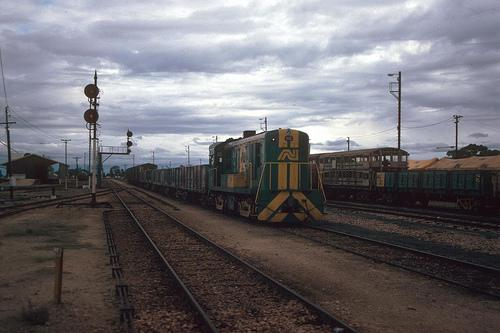Train: (126, 128, 331, 223), (312, 148, 500, 217)
